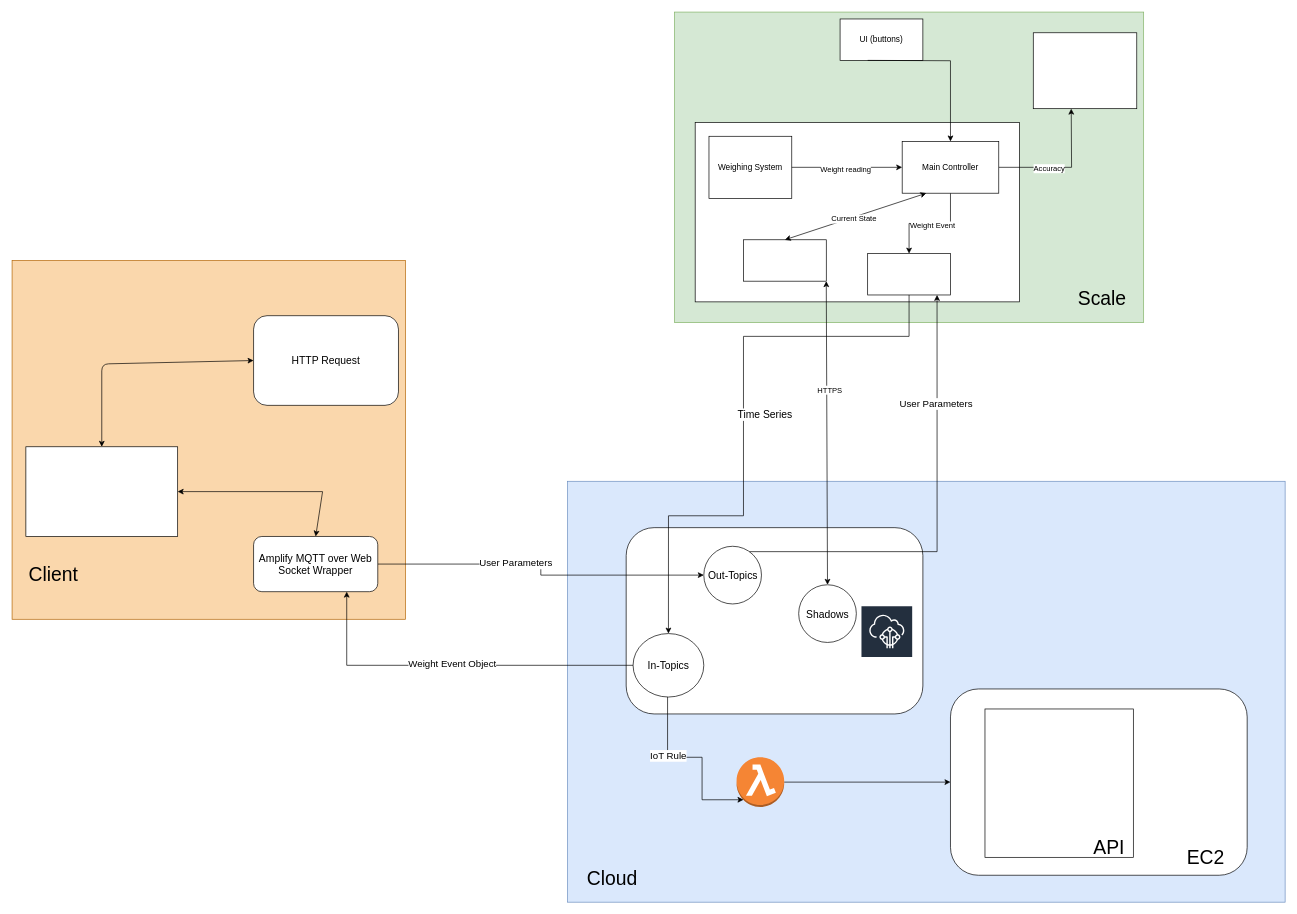
Some shapes in this 1297 by 914 pixel diagram are drawn without their labels. Each missing label, with the centre of its shape:
Amazon IoT Core: [886,654]
MQTT: [908,274]
Output Display {Categorical}: [1085,70]
UI: [101,491]
WI-Fi: [784,260]
